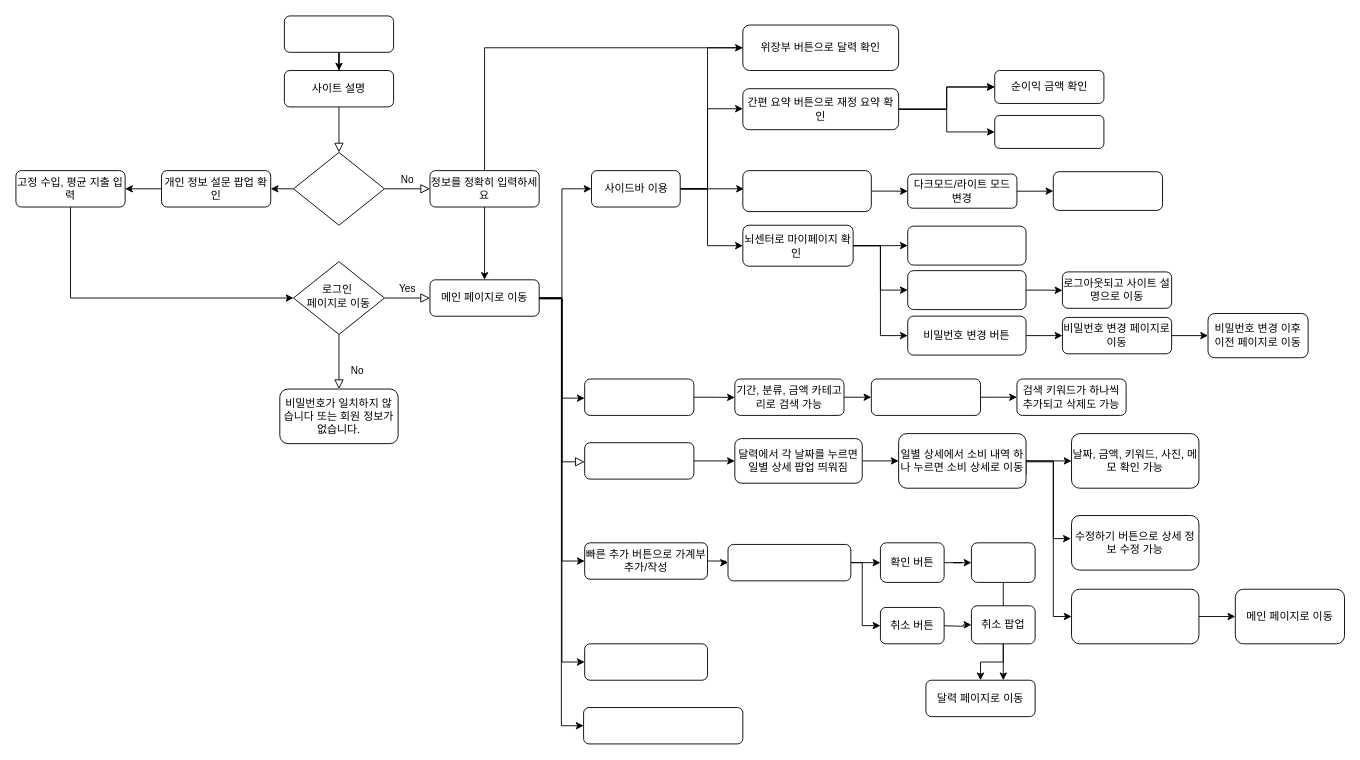
Image size: 1360x760. Some labels were removed from this diagram. Each missing label, with the centre of its shape:
"검색 이후 달력에 표시" goes at [925,396].
"검색창 이용" goes at [639,396].
"날짜, 금액, 키워드, 사진, 메모 입력" goes at [789,562].
"내장 설정 버튼으로 환경 설정 페이지로 이동" goes at [806,191].
"닉네임, 아이디, 가입일, 수입/지출 정보 확인" goes at [966,245].
"달력 | 월별 탭으로 화면 전환" goes at [639,460].
"로그아웃 버튼으로 로그아웃" goes at [663,725].
"사이트 진입" goes at [338,33].
"수입/지출 차트 확인" goes at [1049,131].
"저장 시, 메인페이지로 이동" goes at [1107,190].
"콩팥이랑 이별하기로 회원탈퇴" goes at [966,290].
"화면 아래에 Footer 확인" goes at [646,661].
"확인 팝업" goes at [1003,562].
"회원가입" goes at [338,188].
"휴지통 모양으로 삭제" goes at [1135,616].
